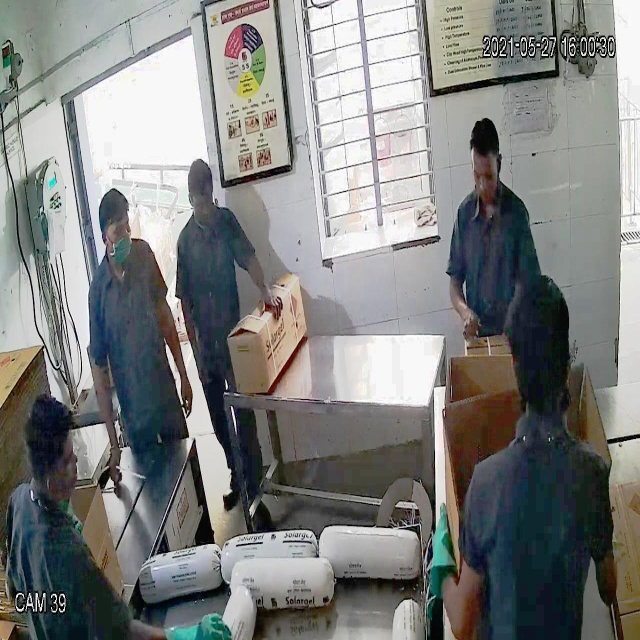Sin_gafas: (93, 214, 137, 249), (471, 159, 503, 190)
